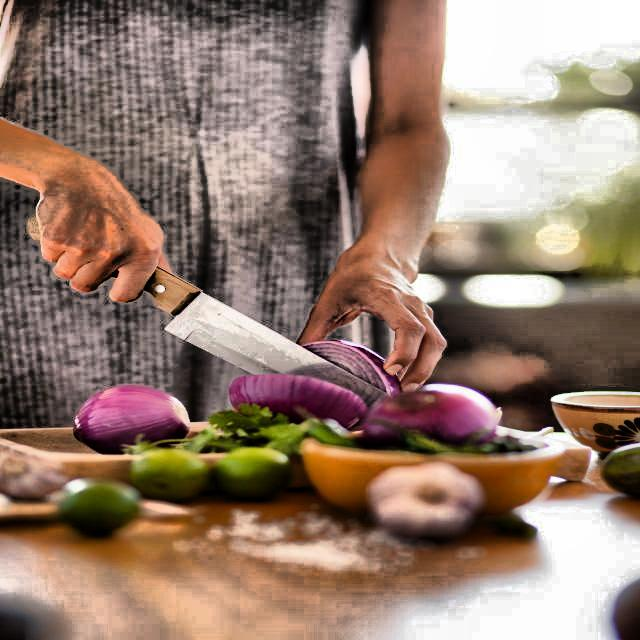knife: (36, 208, 400, 422)
